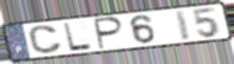5: (190, 6, 223, 39)
6: (128, 13, 157, 45)
C: (27, 24, 64, 55)
I: (173, 9, 192, 42)
L: (62, 21, 95, 52)
P: (94, 16, 126, 51)
